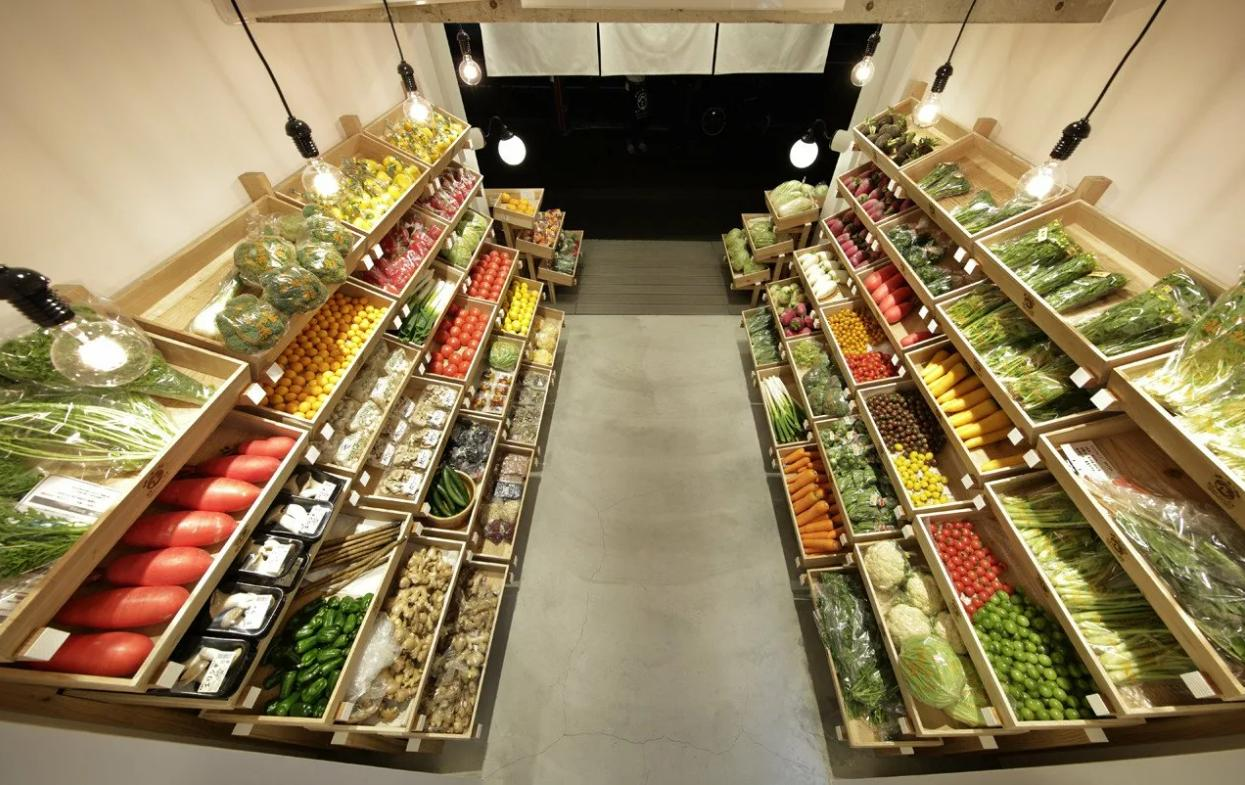carrot: (778, 443, 848, 563)
cucumber: (424, 465, 478, 522)
ginger: (350, 547, 476, 737)
mandarin: (250, 292, 394, 422)
sweet pepper: (253, 594, 379, 740)
tomato: (921, 516, 1004, 617), (419, 301, 503, 393), (466, 239, 520, 306), (845, 348, 902, 390)
